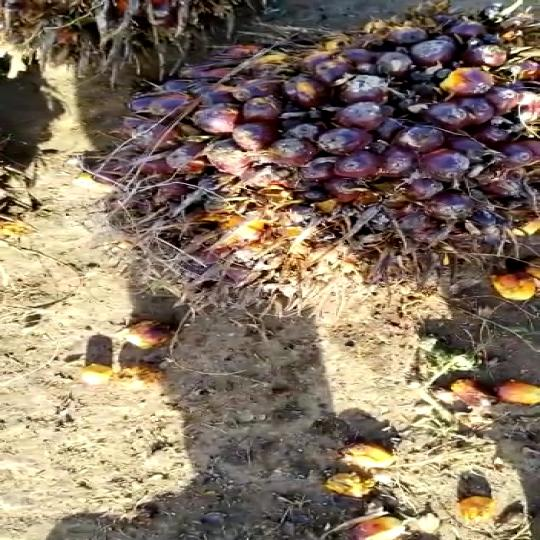masak: (102, 0, 540, 304)
